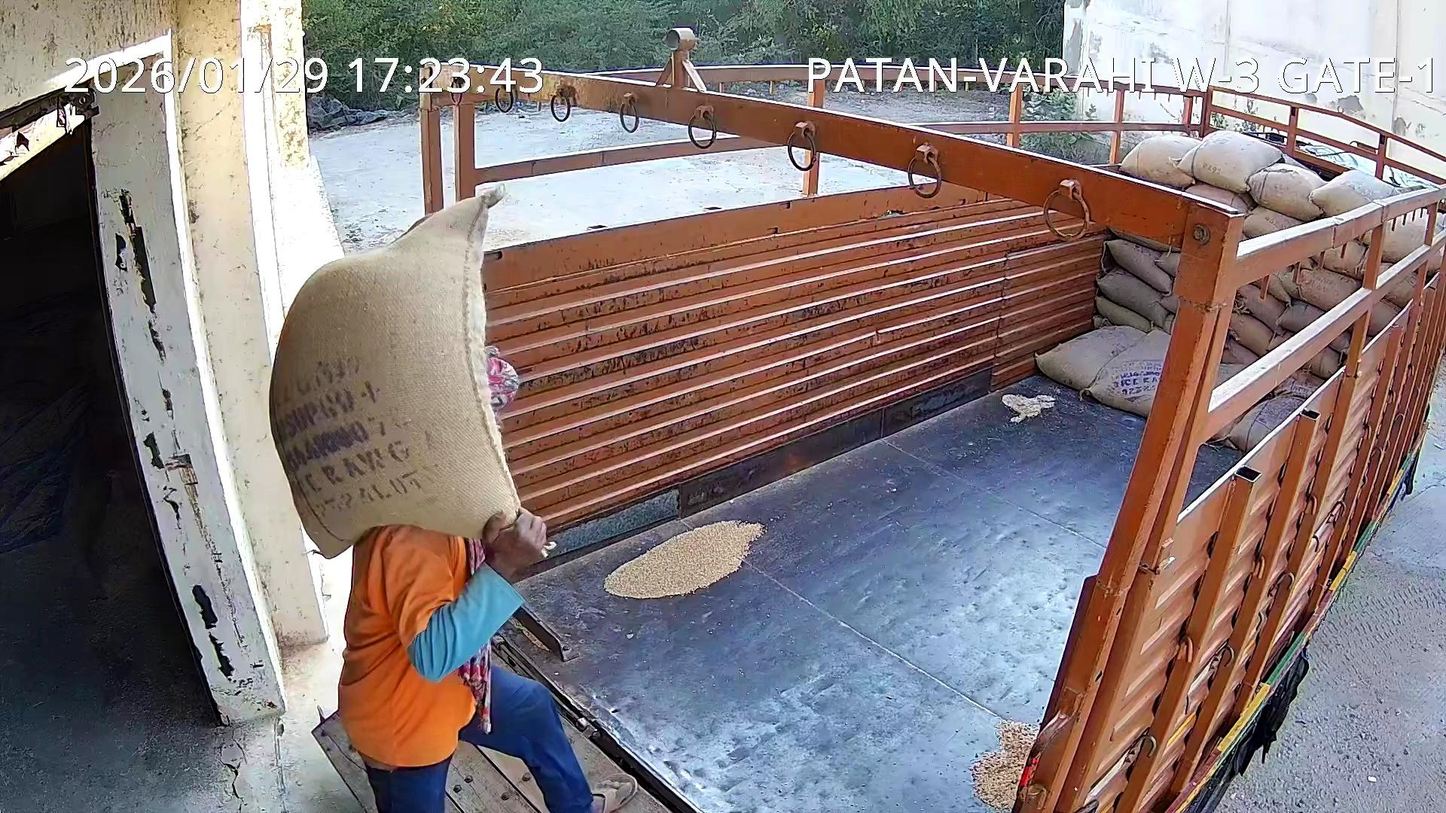Sack: (269, 191, 520, 558)
